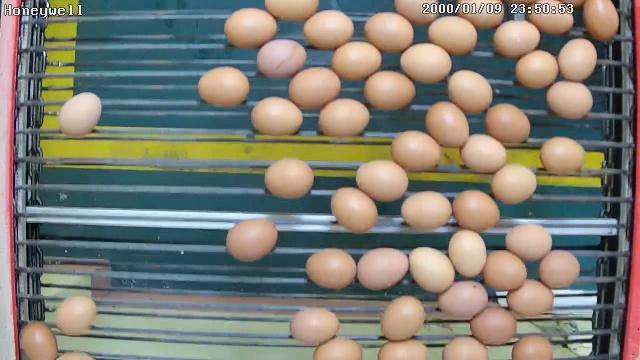egg: (224, 216, 278, 264), (222, 5, 278, 51), (354, 246, 410, 292), (354, 157, 409, 203), (288, 66, 342, 112), (195, 65, 250, 110), (362, 69, 418, 113), (316, 96, 371, 140), (330, 186, 380, 234), (408, 244, 456, 294), (250, 95, 304, 139), (262, 156, 316, 200), (398, 41, 452, 84), (304, 248, 358, 291), (55, 90, 103, 138), (424, 100, 470, 150), (400, 188, 452, 232), (445, 68, 493, 115), (451, 188, 501, 233), (426, 15, 478, 58), (363, 11, 415, 54), (302, 8, 354, 51), (390, 130, 442, 173), (329, 40, 382, 82), (255, 38, 308, 80), (380, 294, 426, 342), (458, 132, 508, 176), (468, 304, 518, 348), (436, 279, 489, 320), (484, 102, 532, 146), (490, 162, 538, 206), (504, 222, 554, 264), (505, 277, 555, 319), (288, 306, 340, 346), (482, 247, 528, 292), (546, 78, 594, 121), (492, 19, 542, 60), (447, 228, 488, 278), (53, 294, 98, 338), (536, 248, 582, 291), (539, 135, 587, 176), (514, 48, 558, 92), (556, 36, 598, 82), (18, 319, 59, 360), (582, 0, 621, 43)
